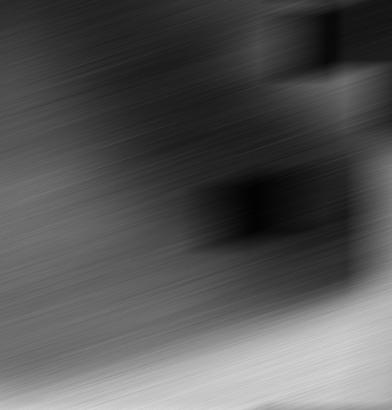Airbag: (0, 0, 392, 410), (374, 138, 392, 410)
